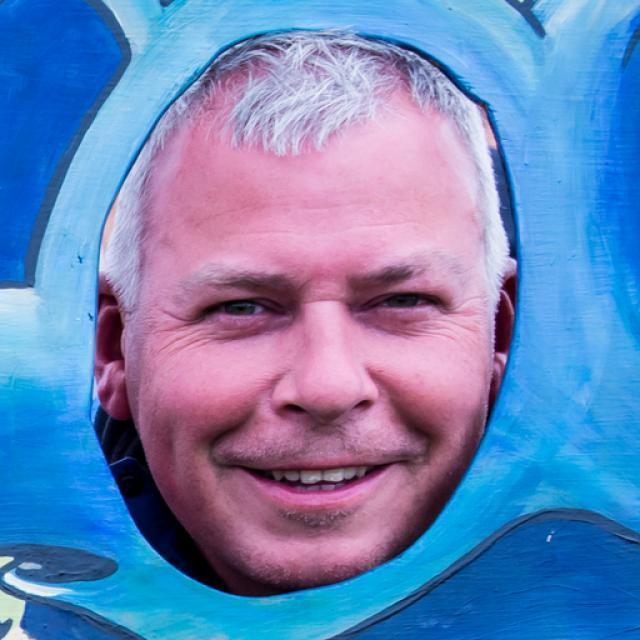happy: (131, 49, 500, 584)
